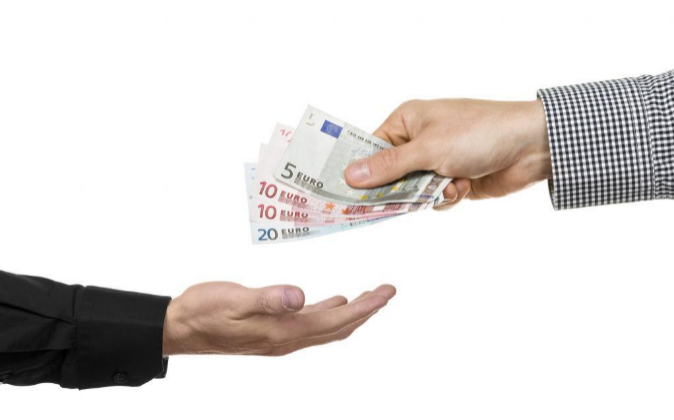billete: (241, 103, 455, 248)
